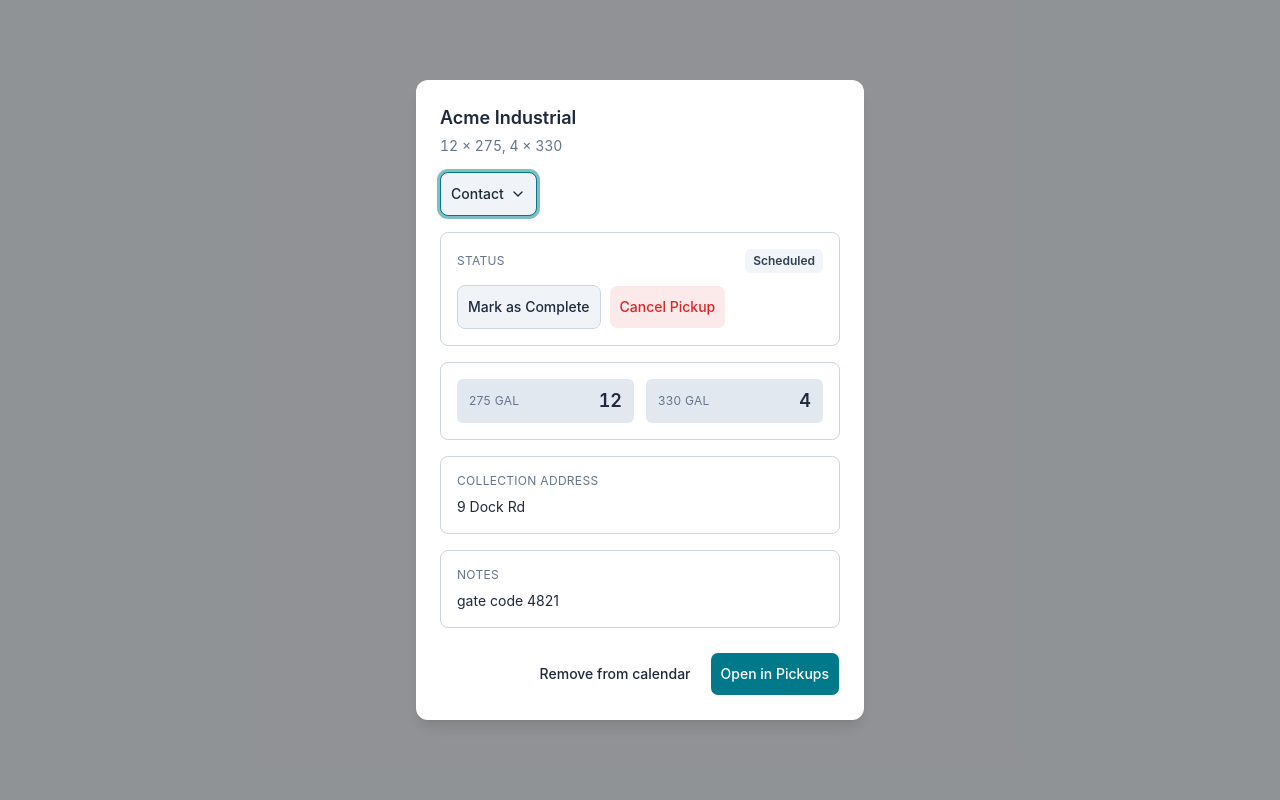
PickupCardDialog › surfaces a rejected transition in the alert region rather than silently failing
Click the button "Mark as Complete". click: click(529, 307)
box: x1=457 y1=285 x2=601 y2=329
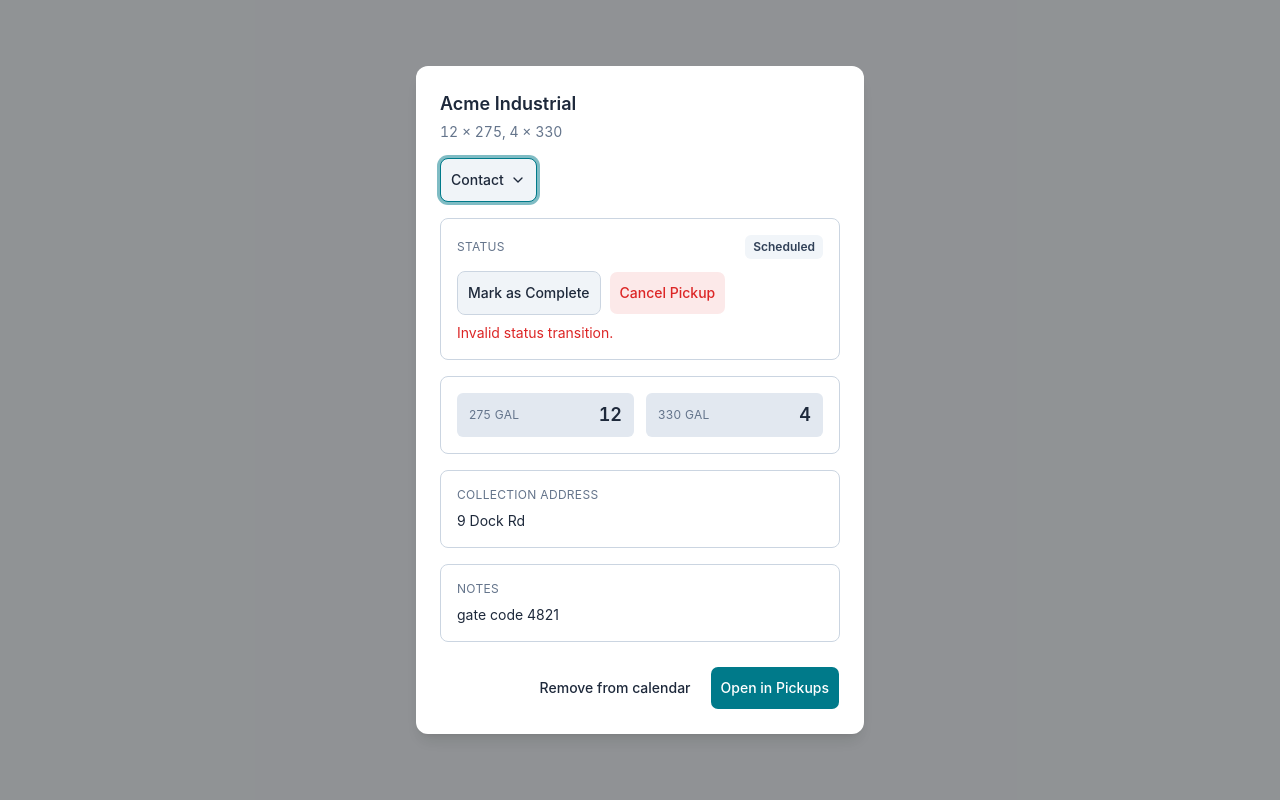
Expected: the message reads "Invalid status transition.", x1=457 y1=324 x2=613 y2=341
